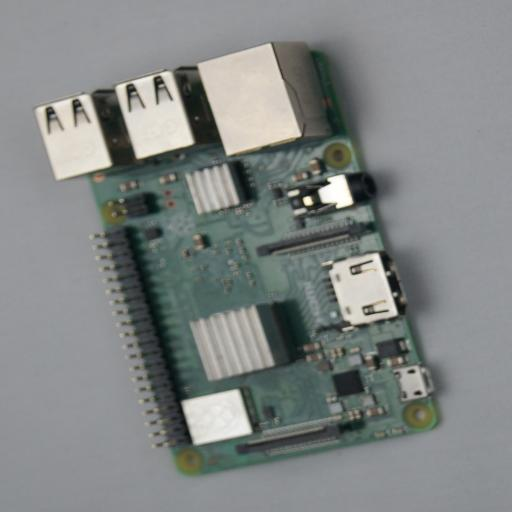Raspberry Pi 3 B-: (46, 41, 446, 476)
